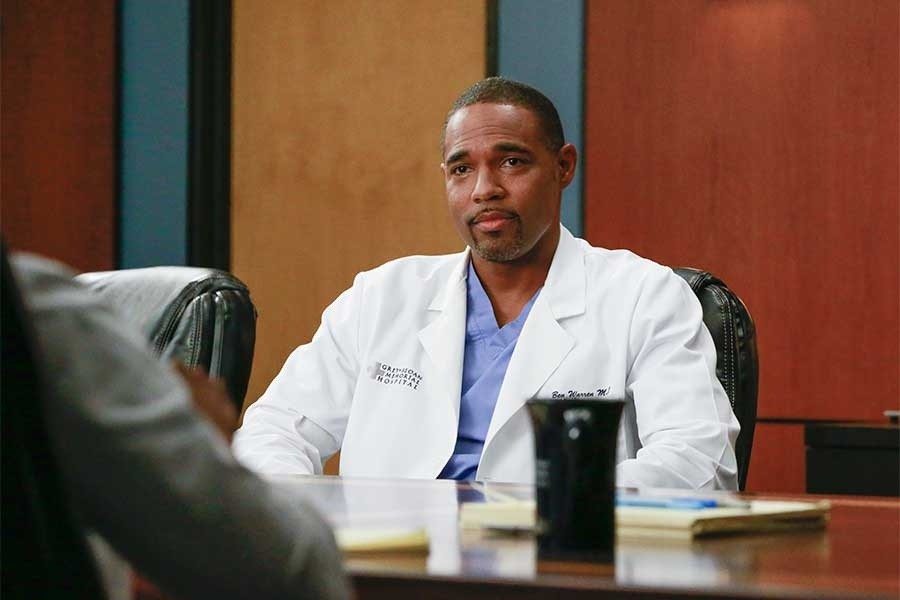face_no_mask: (435, 83, 583, 276)
